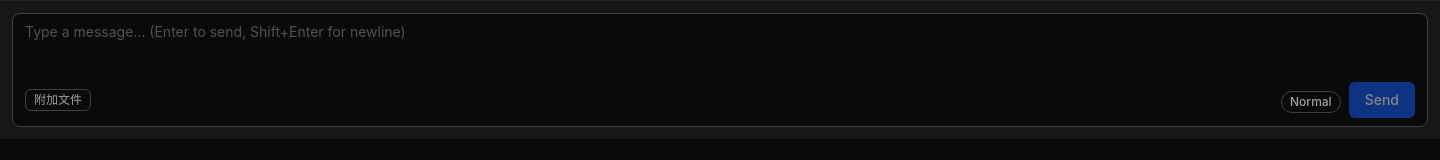
Scenario: MessageInput › slash commands › completes the selected command on Tab
Type "/he" into the text box.
click(720, 48); type("/he")  # box [13,14,1427,82]
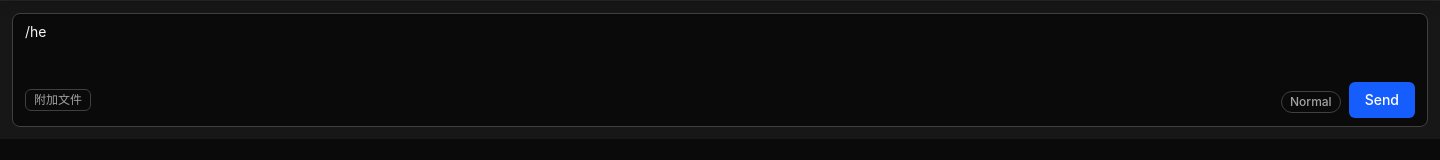
Press Tab in the text box, box [13,14,1427,82]
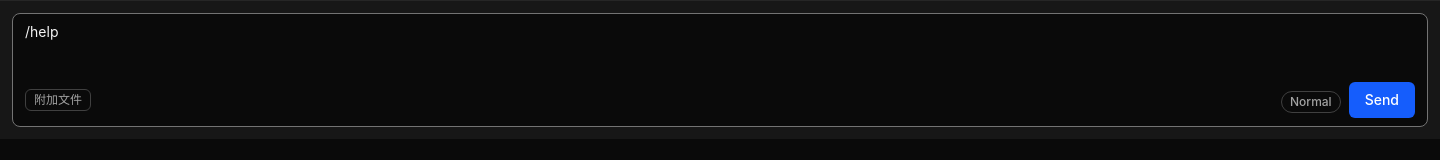
Now the text box holds "/help ", box [13,14,1427,82]
